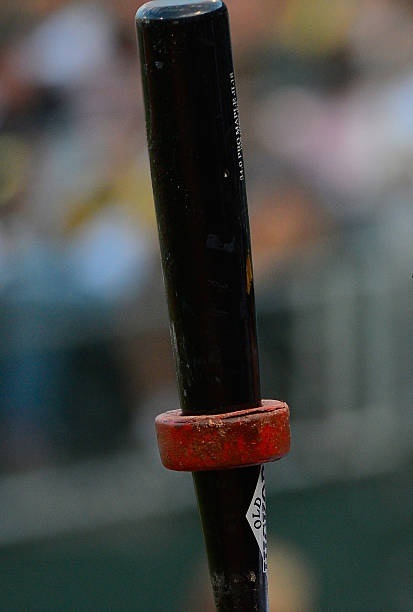bita: (125, 2, 291, 612)
